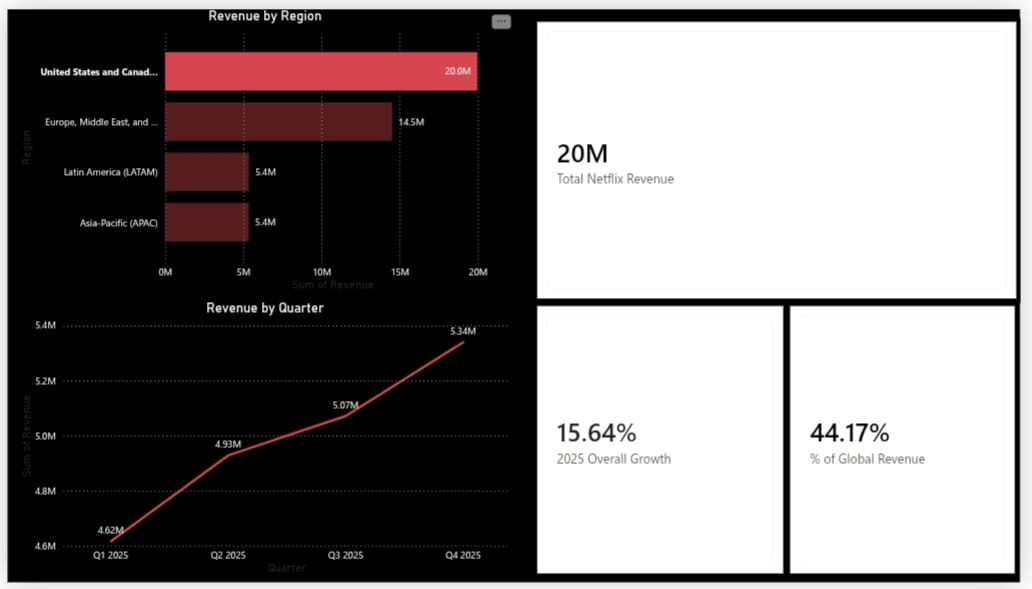

Layout of this report page (visuals, bound fields, positions):
{"tool":"powerbi","page":{"name":"Page 1","canvas":[1280,720],"ordinal":0},"visuals":[{"type":"clusteredBarChart","title":"Revenue by Region","fields":{"Category":["CleanNetfixData.Region"],"Y":["Sum(CleanNetfixData.Revenue)"]},"box":[10.2,0,629.8,360.6],"z":0},{"type":"lineChart","title":"Revenue by Quarter","fields":{"Category":["CleanNetfixData.Quarter"],"Y":["Sum(CleanNetfixData.Revenue)"]},"box":[10,371,630,349],"z":1000},{"type":"cardVisual","fields":{"Data":["Income Statement.Total Netflix Revenue"]},"box":[663.7,10.2,616.3,360.6],"z":2000},{"type":"cardVisual","fields":{"Data":["CleanNetfixData.% of Global Revenue"]},"box":[985.4,370.8,294.6,348.8],"z":3000},{"type":"cardVisual","fields":{"Data":["CleanNetfixData.2025 Overall Growth"]},"box":[663.7,370.8,321.7,348.8],"z":4000}]}

Visuals, with their boxes in screenshot pixels (x1, y1, x2, y2), scaled from the page's 1280x720 canvas onto the 1032x589 screenshot:
"Revenue by Region" clusteredBarChart: bbox=(8, 0, 516, 295)
"Revenue by Quarter" lineChart: bbox=(8, 303, 516, 588)
cardVisual - Income Statement.Total Netflix Revenue: bbox=(535, 8, 1031, 303)
cardVisual - CleanNetfixData.% of Global Revenue: bbox=(794, 303, 1031, 588)
cardVisual - CleanNetfixData.2025 Overall Growth: bbox=(535, 303, 794, 588)
